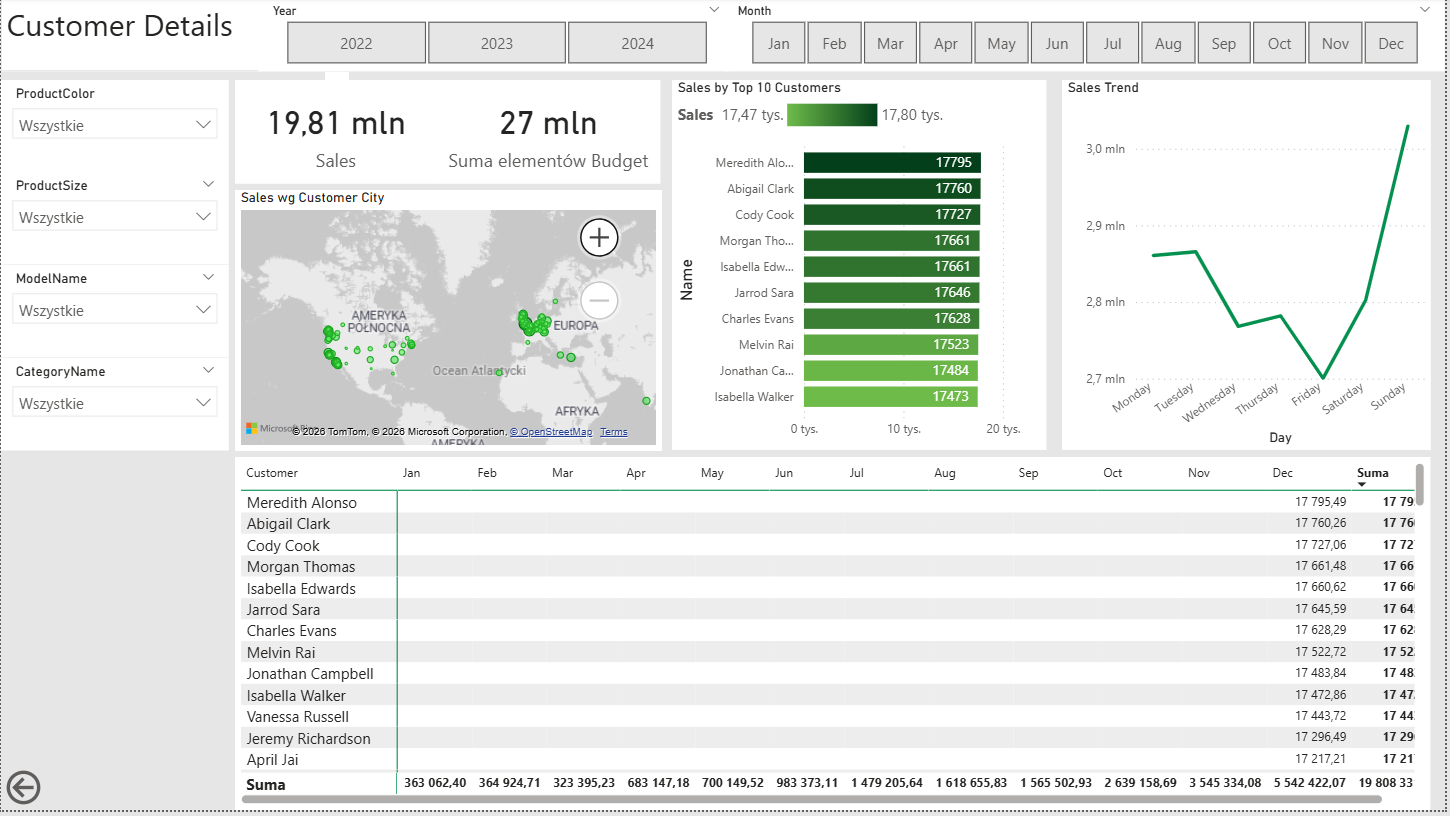

Layout of this report page (visuals, bound fields, positions):
{"tool":"powerbi","page":{"name":"Customer Details","canvas":[1280,720],"ordinal":1},"visuals":[{"type":"textbox","box":[0,0,309.3,65.2],"z":0},{"type":"slicer","fields":{"Values":["DIM_Products.ProductColor"]},"box":[0,72.9,202.3,81.7],"z":1000},{"type":"slicer","fields":{"Values":["DIM_Products.ProductSize"]},"box":[0,154.3,202.2,82.5],"z":2000},{"type":"slicer","fields":{"Values":["DIM_Products.ModelName"]},"box":[0,236.7,202.2,81.6],"z":3000},{"type":"slicer","fields":{"Values":["DIM_Products.CategoryName"]},"box":[0,319.2,202.2,81.6],"z":4000},{"type":"slicer","fields":{"Values":["DIM_Calendar.Year"]},"box":[227.6,0,422.1,65.2],"z":5000},{"type":"slicer","fields":{"Values":["DIM_Calendar.MonthShort"]},"box":[640,0,640,65.2],"z":6000},{"type":"barChart","title":"Sales by Top 10 Customers","fields":{"Y":["FACT_InternetSales.Sales"],"Category":["DIM_Customer.FullName"]},"box":[595.3,72.9,331.7,327.8],"z":7000},{"type":"map","fields":{"Category":["DIM_Customer.CustomerCity"],"Size":["FACT_InternetSales.Sales"]},"box":[207.2,170.2,378.4,230.5],"z":8000},{"type":"card","fields":{"Values":["FACT_InternetSales.Sales"]},"box":[207.2,72.9,179,92.4],"z":9000},{"type":"card","fields":{"Values":["Sum(FACT_Budget.Budget)"]},"box":[386.1,72.9,199.4,92.4],"z":10000},{"type":"pivotTable","fields":{"Rows":["DIM_Customer.FullName"],"Values":["FACT_InternetSales.Sales"],"Columns":["DIM_Calendar.MonthShort"]},"box":[207.2,406.6,1060.2,313.2],"z":11000},{"type":"lineChart","title":"Sales Trend","fields":{"Y":["FACT_InternetSales.Sales"],"Category":["DIM_Calendar.Day"]},"box":[940.5,72.9,326.8,327.8],"z":12000},{"type":"actionButton","box":[0,679.9,100.2,39.9],"z":12001}]}

Visuals, with their boxes in screenshot pixels (x1, y1, x2, y2), scaled from the page's 1280x720 canvas onto the 1450x816 screenshot:
textbox: bbox=(0, 0, 350, 74)
slicer - DIM_Products.ProductColor: bbox=(0, 83, 229, 175)
slicer - DIM_Products.ProductSize: bbox=(0, 175, 229, 268)
slicer - DIM_Products.ModelName: bbox=(0, 268, 229, 361)
slicer - DIM_Products.CategoryName: bbox=(0, 362, 229, 454)
slicer - DIM_Calendar.Year: bbox=(258, 0, 736, 74)
slicer - DIM_Calendar.MonthShort: bbox=(725, 0, 1449, 74)
"Sales by Top 10 Customers" barChart: bbox=(674, 83, 1050, 454)
map - DIM_Customer.CustomerCity x FACT_InternetSales.Sales: bbox=(235, 193, 663, 454)
card - FACT_InternetSales.Sales: bbox=(235, 83, 437, 187)
card - Sum(FACT_Budget.Budget): bbox=(437, 83, 663, 187)
pivotTable - DIM_Customer.FullName x FACT_InternetSales.Sales: bbox=(235, 461, 1436, 815)
"Sales Trend" lineChart: bbox=(1065, 83, 1436, 454)
actionButton: bbox=(0, 771, 114, 815)
